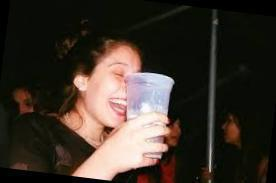Drunk: (94, 46, 138, 124)
